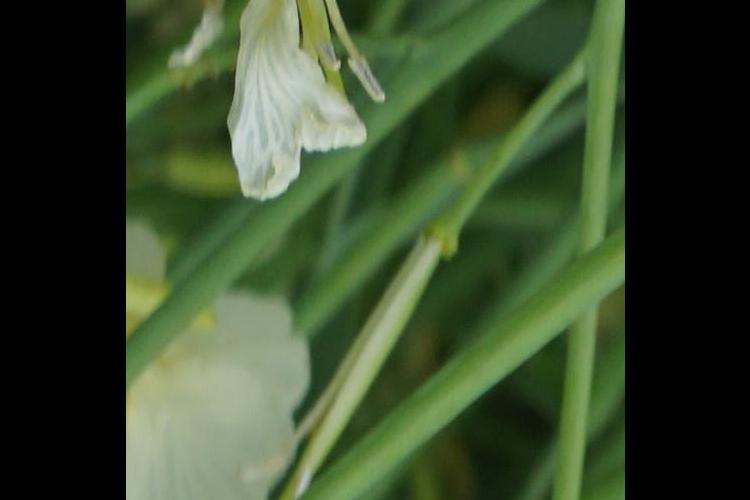white: (127, 217, 304, 500), (205, 1, 381, 208)
